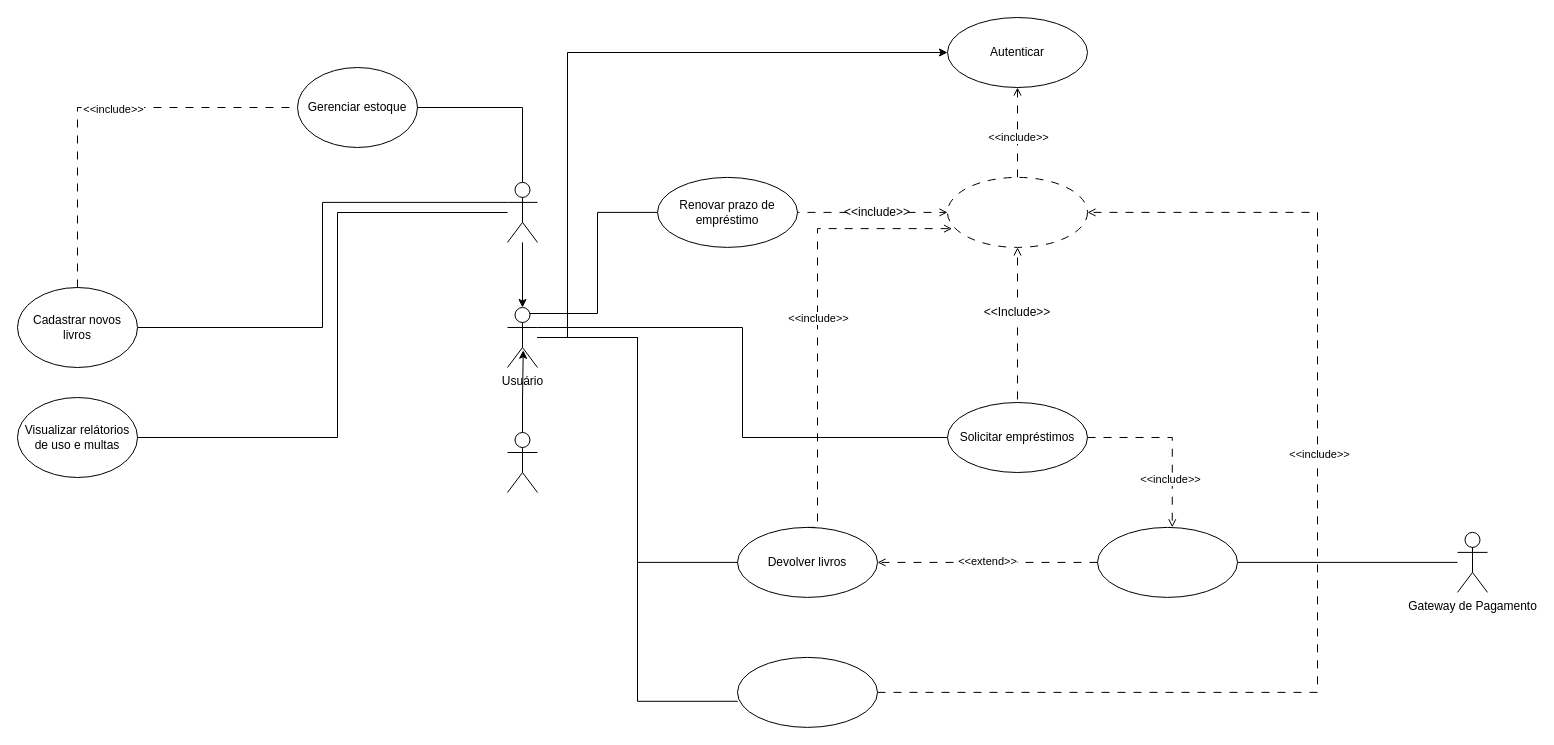
Some shapes in this 1554 by 745 pixel diagram are drawn without their labels. The centre of each missing label's shape, as x and y in pixels:
"Bibliotecá rios" belongs at [522,211].
"Calcular multa" belongs at [1167,561].
"Gerenciar Emprestimos" belongs at [1017,211].
"Leitores" belongs at [522,462].
"Reservar Livros" belongs at [807,691].
